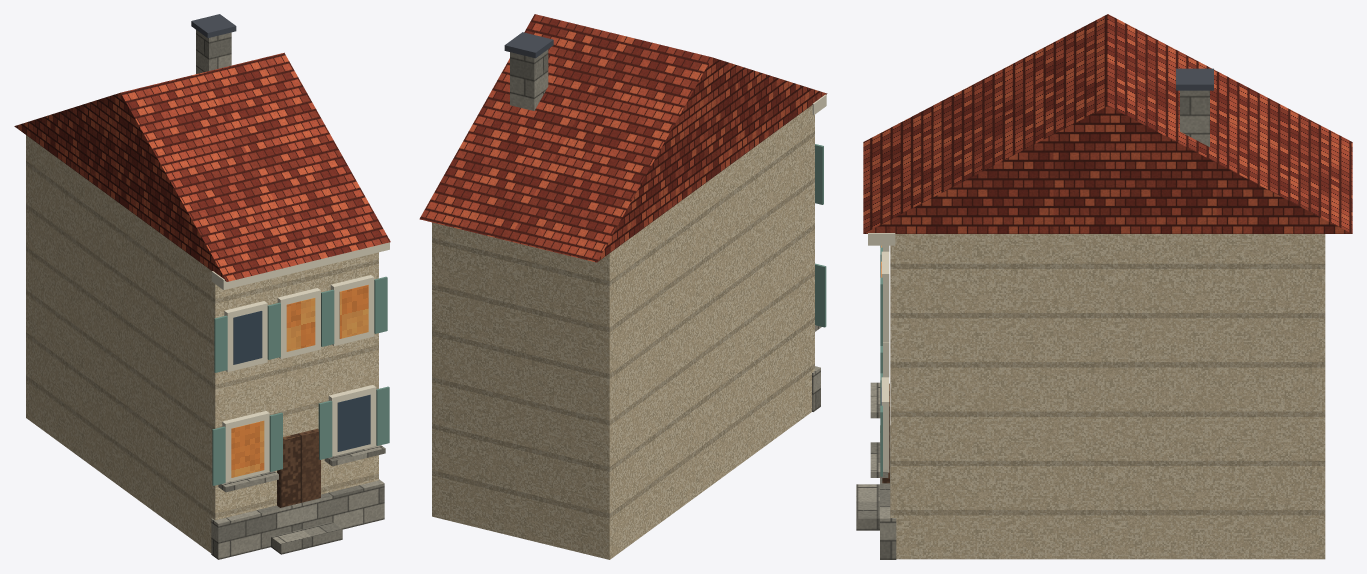
The model's file is ENV_C_Facade_1.fbx.
The picture shows the model from 3 angles, left to right: view 1: azimuth 30°, elevation 25°; view 2: azimuth 150°, elevation 25°; view 3: azimuth 270°, elevation 25°; orthographic projection. The views are drawn at different scales.
Visible parts, largest first — view 1: ENV_C_Facade_1; view 2: ENV_C_Facade_1; view 3: ENV_C_Facade_1.
Boxes of the visible parts, box(x1,y1,x2,y2) form: ENV_C_Facade_1: box(14, 14, 390, 559); ENV_C_Facade_1: box(419, 14, 827, 559); ENV_C_Facade_1: box(856, 14, 1352, 559).
Size of the model in its own units: 430 by 942 by 913.
9 materials, 5 textured.
